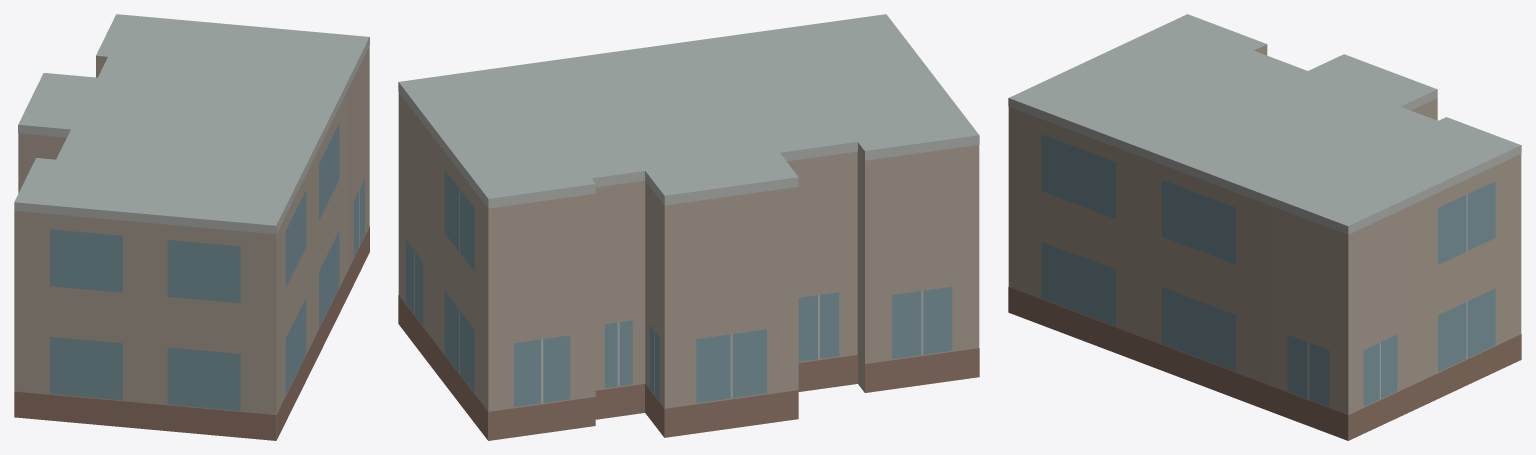
Rendered from survey-upis-32984797.glb.
3 renders of one model, left to right at view 1: azimuth 30°, elevation 25°; view 2: azimuth 150°, elevation 25°; view 3: azimuth 270°, elevation 25°, orthographic. The views are drawn at different scales.
Visible parts, largest first — view 1: survey-upis-32984797.tmp; view 2: survey-upis-32984797.tmp; view 3: survey-upis-32984797.tmp.
Part boxes in pixels (x1,y1,x2,y2): survey-upis-32984797.tmp: (14,14,369,440); survey-upis-32984797.tmp: (398,14,979,440); survey-upis-32984797.tmp: (1008,14,1521,440).
Bounding box in the file's own units: 12.95 × 6.1 × 13.22.
